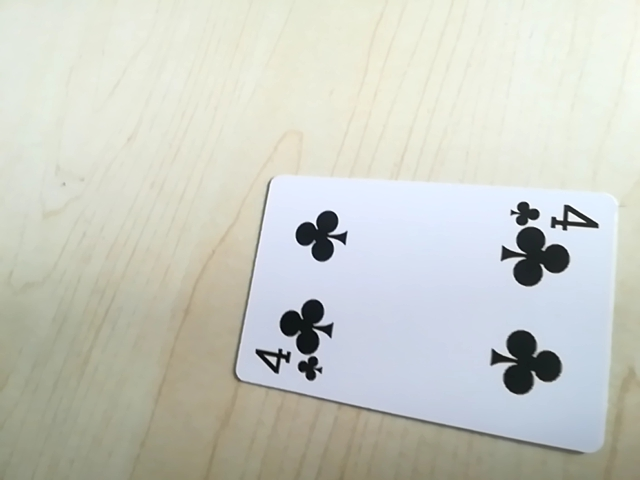mh 4: (508, 196, 598, 232), (250, 346, 328, 383)
